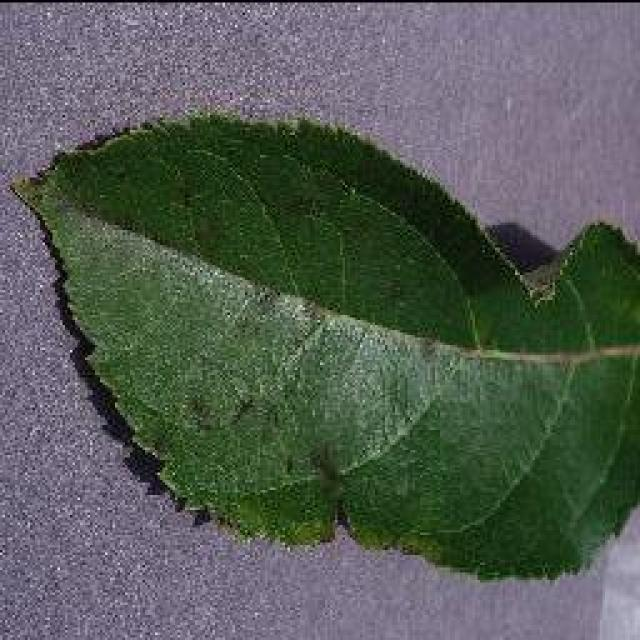apple scab disease: (8, 105, 638, 583)
